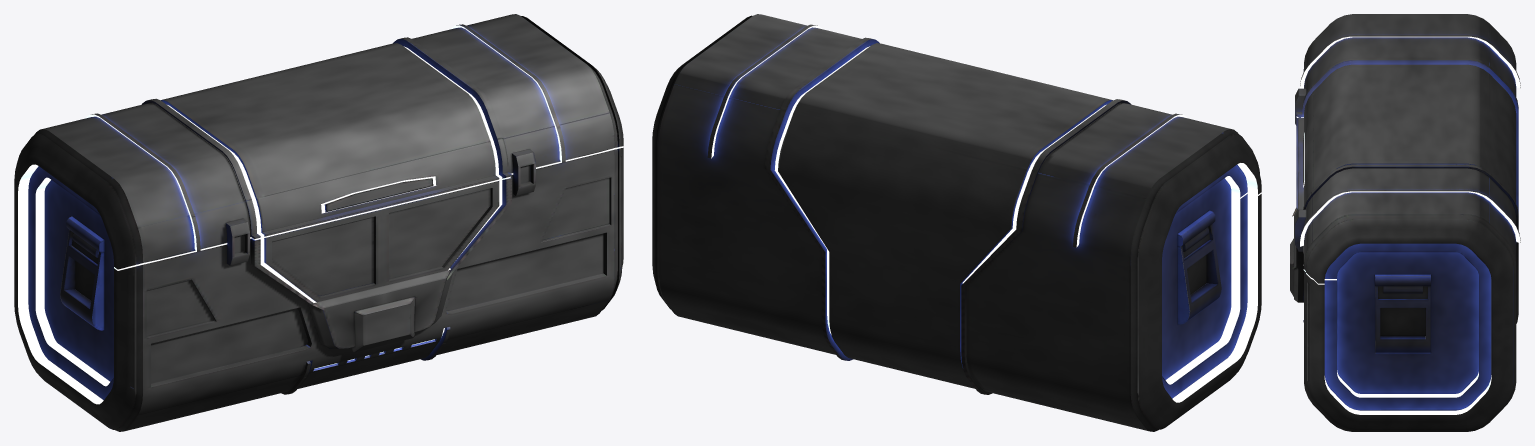
The model's file is blue.fbx.
3 renders of one model, left to right at view 1: azimuth 30°, elevation 25°; view 2: azimuth 150°, elevation 25°; view 3: azimuth 270°, elevation 25°, orthographic. The views are drawn at different scales.
Parts seen in each view (by area): view 1: Cube; view 2: Cube; view 3: Cube.
Boxes of the visible parts, bbox=[...] form: Cube: bbox=[14, 14, 623, 431]; Cube: bbox=[652, 14, 1261, 431]; Cube: bbox=[1290, 14, 1520, 431].
Size of the model in its own units: 478 by 230 by 217.
Materials: 2 (1 with a texture image).
